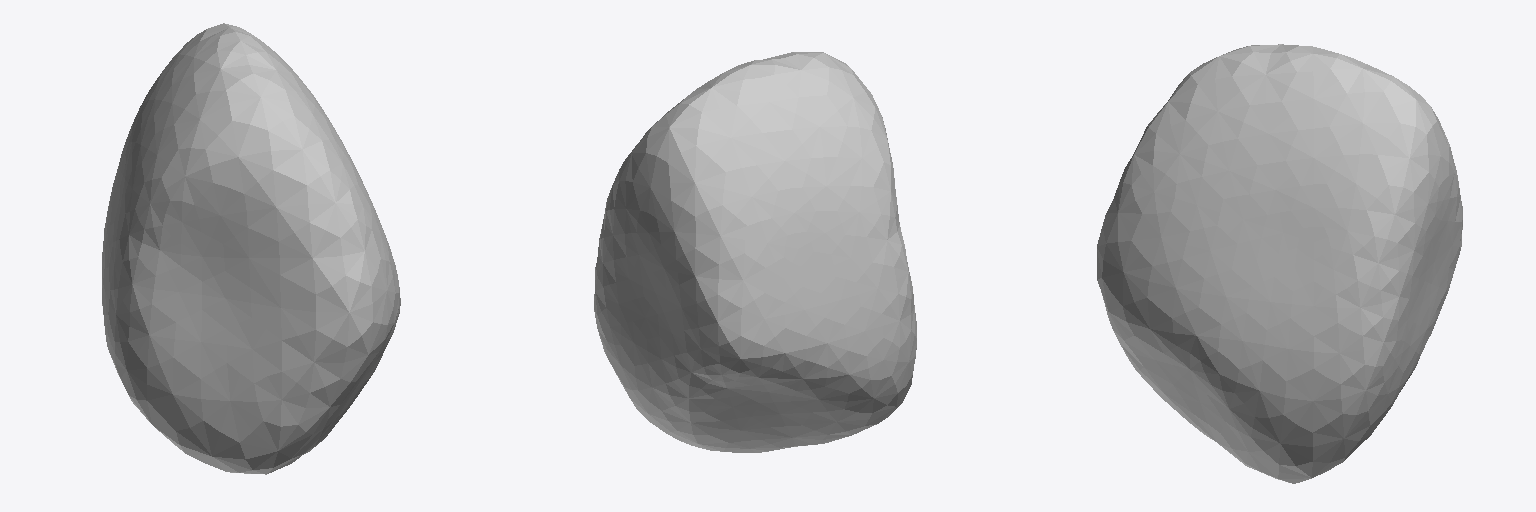
Rendered from Rock01.obj.
3 renders of one model, left to right at view 1: azimuth 30°, elevation 25°; view 2: azimuth 150°, elevation 25°; view 3: azimuth 270°, elevation 25°, orthographic.
Parts seen in each view (by area): view 1: Icosphere; view 2: Icosphere; view 3: Icosphere.
Part boxes in pixels (x1,y1,x2,y2): Icosphere: (102,23,400,474); Icosphere: (594,52,916,452); Icosphere: (1097,44,1462,483).
Size of the model in its own units: 0.7741 by 1.09 by 0.8967.